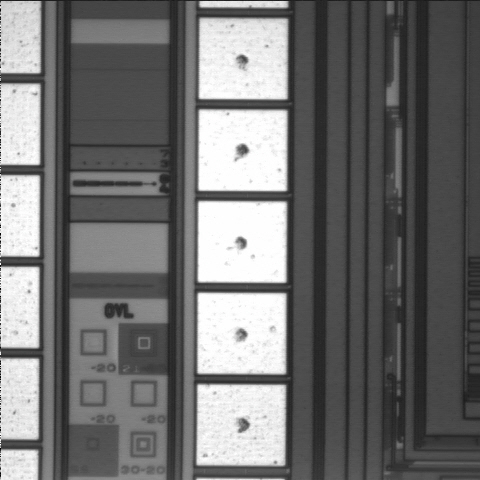pad: (198, 201, 287, 283), (199, 18, 288, 99), (198, 110, 287, 191), (197, 293, 286, 374), (197, 385, 286, 466)
